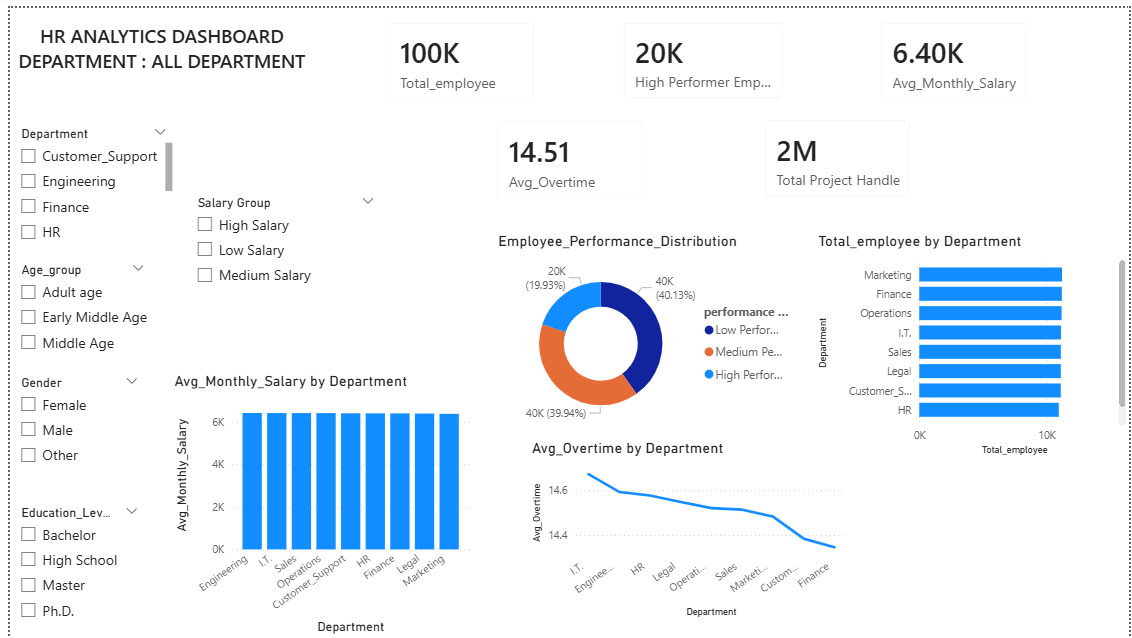

What the dashboard file says about the page in this screenshot:
{"tool":"powerbi","page":{"name":"Department & Performance Analysis","canvas":[1280,720],"ordinal":1},"visuals":[{"type":"textbox","box":[0,0,1280.3,67.2],"z":0},{"type":"cardVisual","fields":{"Data":["Measure Table.Avg Department Salary"]},"box":[0,175,320,155],"z":1000},{"type":"cardVisual","fields":{"Data":["Measure Table.Avg Performance Department"]},"box":[320,175,320,155],"z":2000},{"type":"cardVisual","fields":{"Data":["Measure Table.Avg Project Handle"]},"box":[640,175,326.7,155],"z":3000},{"type":"cardVisual","fields":{"Data":["Measure Table.Avg TeamSize"]},"box":[966.7,175,313.3,155],"z":4000},{"type":"clusteredColumnChart","title":"Project Handle By Department","fields":{"Category":["Clean data.Department"],"Y":["Sum(Clean data.Projects_Handled)"]},"box":[1.7,328.3,421.7,195],"z":5000},{"type":"areaChart","title":"Avg Performance By Job Role","fields":{"Category":["Clean data.Job_Title"],"Y":["Avg(Clean data.Performance_Score)"]},"box":[0,523.3,421.7,196.7],"z":6000},{"type":"clusteredColumnChart","title":"Performance Bedge Rank % By Department","fields":{"Y":["CountNonNull(Clean data.Rank_By_Performance)"],"Category":["Clean data.Department"]},"box":[820,328.3,460,195],"z":7000},{"type":"lineChart","title":"Project Handle By Age Group","fields":{"Y":["Sum(Clean data.Projects_Handled)"],"Category":["Clean data.Job_Title"]},"box":[820,521.7,460,196.7],"z":8000},{"type":"clusteredBarChart","title":"Remote Work Frequency By Age ","fields":{"Category":["Clean data.Age_group"],"Y":["CountNonNull(Clean data.Remote_Work_Frequency)"]},"box":[421.7,328.3,398.3,193.3],"z":9000},{"type":"clusteredColumnChart","title":"Working Hours By Department","fields":{"Category":["Clean data.Department"],"Y":["CountNonNull(Clean data.Work_Hours_Per_Week)"]},"box":[423.3,523.3,396.7,196.7],"z":10000},{"type":"slicer","fields":{"Values":["Clean data.Department"]},"box":[0,90.8,281.1,74.6],"z":11000},{"type":"slicer","fields":{"Values":["Clean data.Job_Title"]},"box":[502.6,100.8,273.1,75.5],"z":12000},{"type":"slicer","fields":{"Values":["Clean data.Age_group"]},"box":[988.9,89.6,291.1,74.6],"z":13000}]}

Visuals, with their boxes in screenshot pixels (x1, y1, x2, y2), scaled from the page's 1280x720 canvas onto the 1132x638 screenshot:
textbox: l=0, t=0, r=1131, b=60
cardVisual - Measure Table.Avg Department Salary: l=0, t=155, r=283, b=292
cardVisual - Measure Table.Avg Performance Department: l=283, t=155, r=566, b=292
cardVisual - Measure Table.Avg Project Handle: l=566, t=155, r=855, b=292
cardVisual - Measure Table.Avg TeamSize: l=855, t=155, r=1131, b=292
"Project Handle By Department" clusteredColumnChart: l=2, t=291, r=374, b=464
"Avg Performance By Job Role" areaChart: l=0, t=464, r=373, b=637
"Performance Bedge Rank % By Department" clusteredColumnChart: l=725, t=291, r=1131, b=464
"Project Handle By Age Group" lineChart: l=725, t=462, r=1131, b=637
"Remote Work Frequency By Age " clusteredBarChart: l=373, t=291, r=725, b=462
"Working Hours By Department" clusteredColumnChart: l=374, t=464, r=725, b=637
slicer - Clean data.Department: l=0, t=80, r=249, b=147
slicer - Clean data.Job_Title: l=444, t=89, r=686, b=156
slicer - Clean data.Age_group: l=875, t=79, r=1131, b=145
